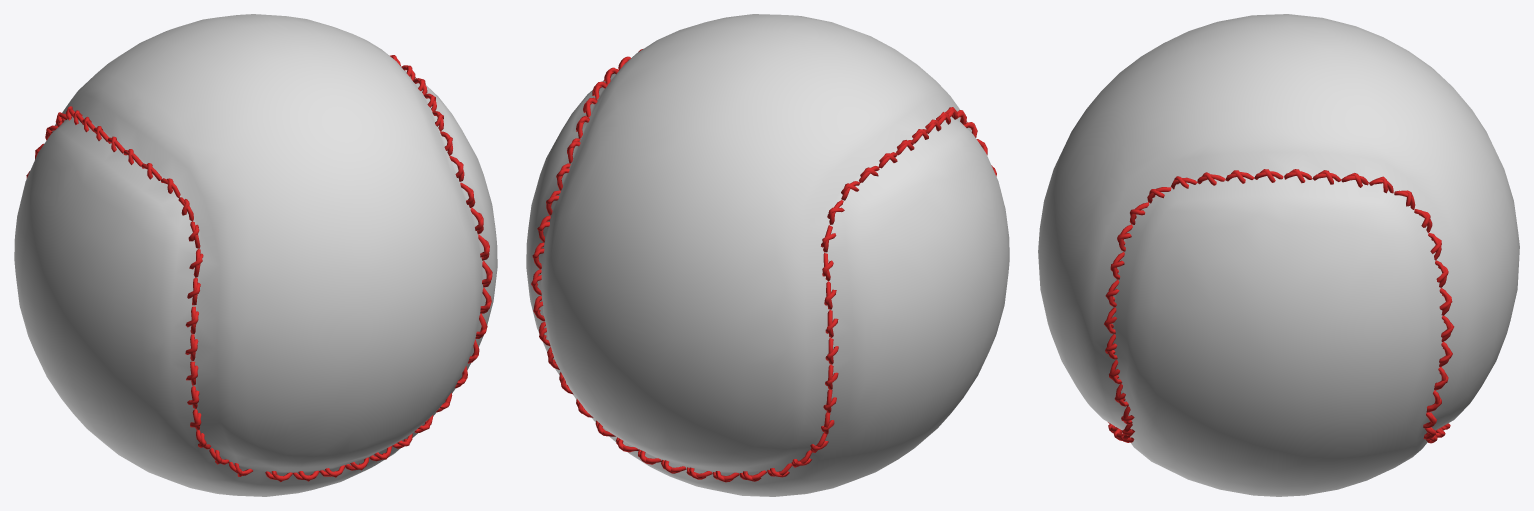
Rendered from Baseball.fbx.
3 views of the same model, side by side, from view 1: azimuth 30°, elevation 25°; view 2: azimuth 150°, elevation 25°; view 3: azimuth 270°, elevation 25° (orthographic).
Parts seen in each view (by area): view 1: Cube; view 2: Cube; view 3: Cube.
Part boxes in pixels (x1=…): Cube: x1=14, y1=14, x2=497, y2=496; Cube: x1=526, y1=14, x2=1009, y2=496; Cube: x1=1038, y1=14, x2=1519, y2=496.
Bounding box in the file's own units: 26.19 × 26.18 × 26.19.
